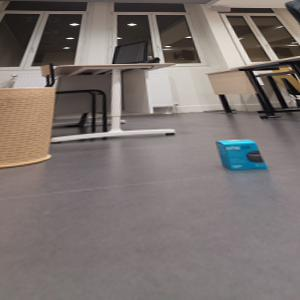medium: (1, 87, 58, 167)
small: (216, 140, 267, 172)
